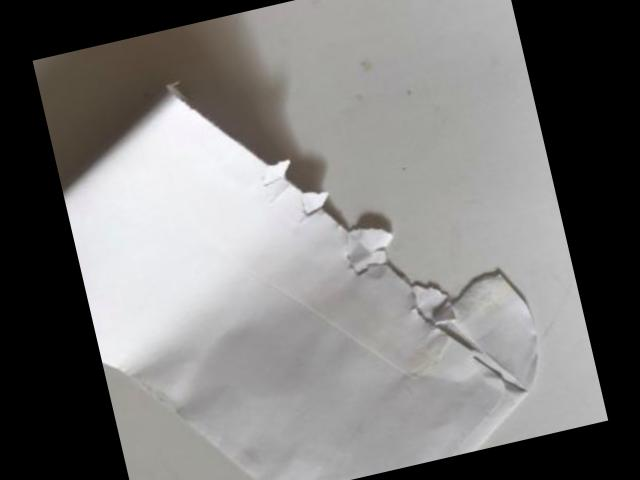cardboard paper: (64, 94, 538, 480)
